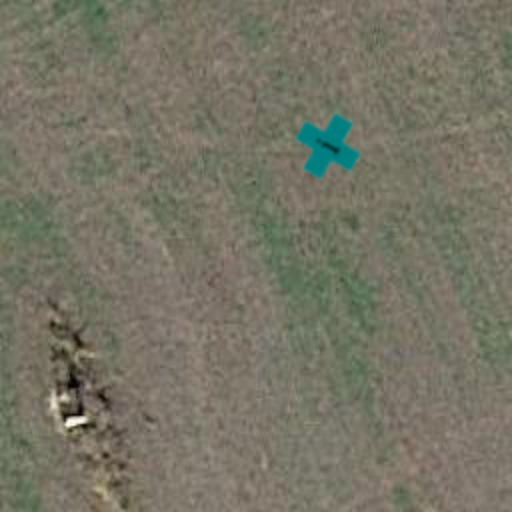cross: (282, 100, 374, 192)
